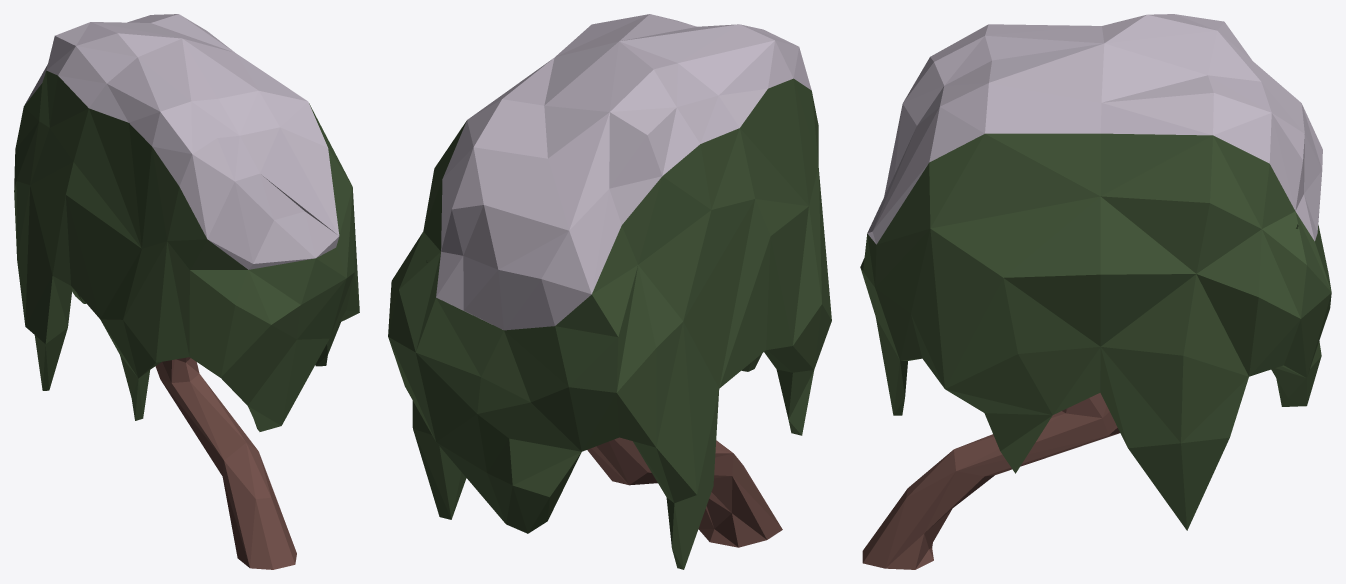
File: Willow_Snow_3.lod1.glb
3 renders of one model, left to right at view 1: azimuth 30°, elevation 25°; view 2: azimuth 150°, elevation 25°; view 3: azimuth 270°, elevation 25°, orthographic. The views are drawn at different scales.
Visible parts, largest first — view 1: Willow_Snow_3; view 2: Willow_Snow_3; view 3: Willow_Snow_3.
Boxes of the visible parts, x1=… form: Willow_Snow_3: x1=14, y1=14, x2=359, y2=569; Willow_Snow_3: x1=388, y1=14, x2=831, y2=569; Willow_Snow_3: x1=860, y1=14, x2=1331, y2=569.
Bounding box in the file's own units: 1.32 × 2.41 × 1.98.
